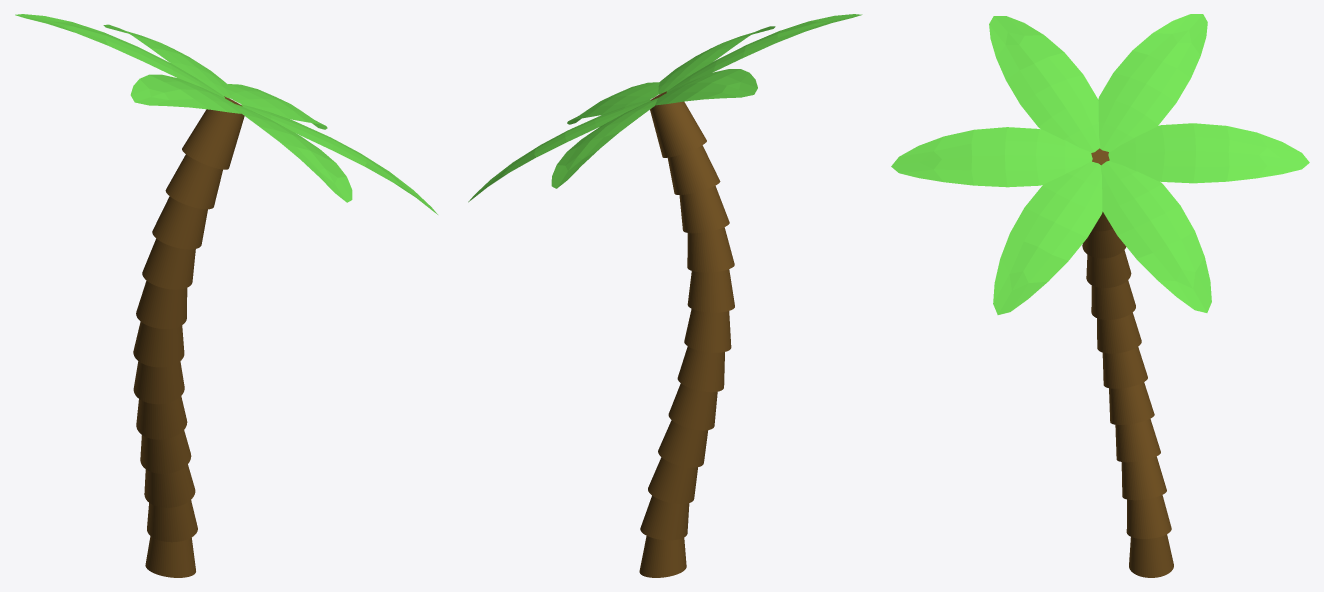
The model's file is Tree1.glb.
3 renders of one model, left to right at view 1: azimuth 30°, elevation 25°; view 2: azimuth 150°, elevation 25°; view 3: azimuth 270°, elevation 25°, orthographic. The views are drawn at different scales.
Visible parts, largest first — view 1: PalmTree; view 2: PalmTree; view 3: PalmTree.
Boxes of the visible parts, <box> form: PalmTree: <box>15,14,437,577</box>; PalmTree: <box>468,14,862,577</box>; PalmTree: <box>891,14,1309,577</box>.
Bounding box in the file's own units: 3.49 × 6.13 × 4.64.
